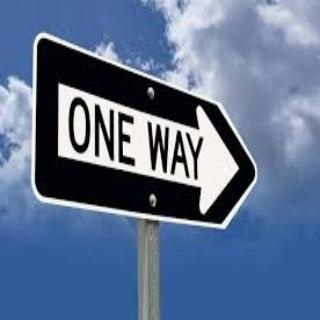sign_oneway_right: (31, 32, 247, 233)
